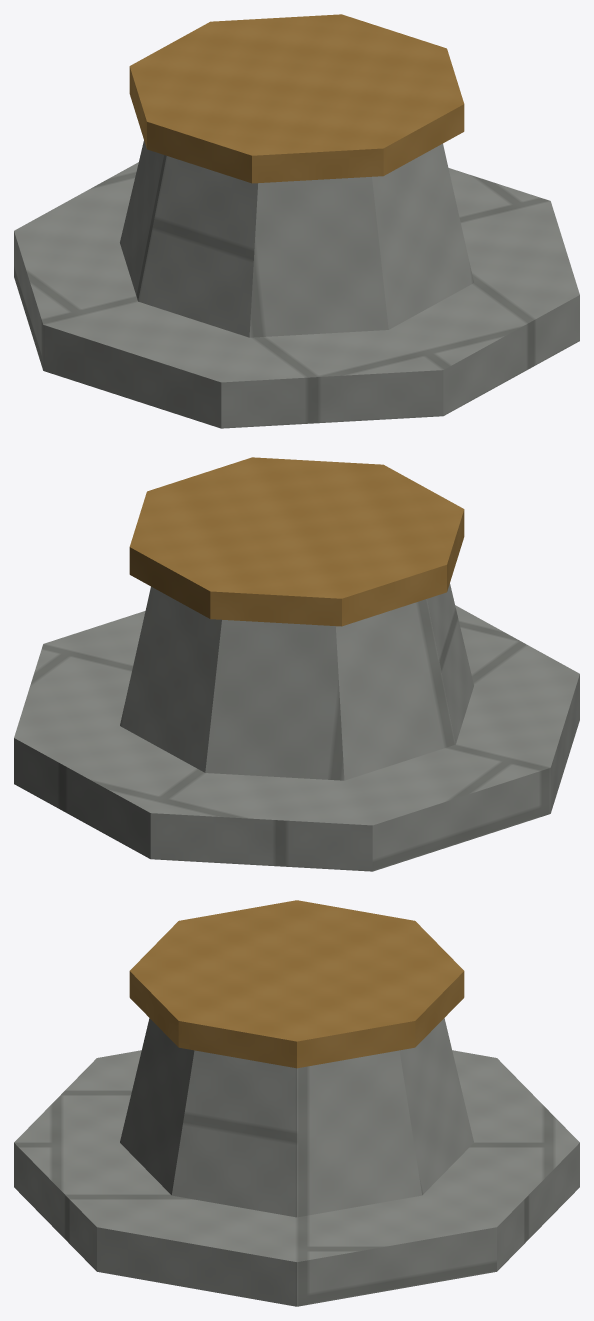
File: heart_pedestal.obj
3 renders of one model, top to bottom at view 1: azimuth 30°, elevation 25°; view 2: azimuth 150°, elevation 25°; view 3: azimuth 270°, elevation 25°, orthographic. The views are drawn at different scales.
Visible parts, largest first — view 1: heart_pedestal; view 2: heart_pedestal; view 3: heart_pedestal.
Part boxes in pixels (x1,y1,x2,y2): heart_pedestal: (14, 14, 579, 428); heart_pedestal: (14, 457, 579, 871); heart_pedestal: (14, 900, 579, 1306).
Bounding box in the file's own units: 2.3 × 0.97 × 2.3.
Materials: 2 (2 with a texture image).
